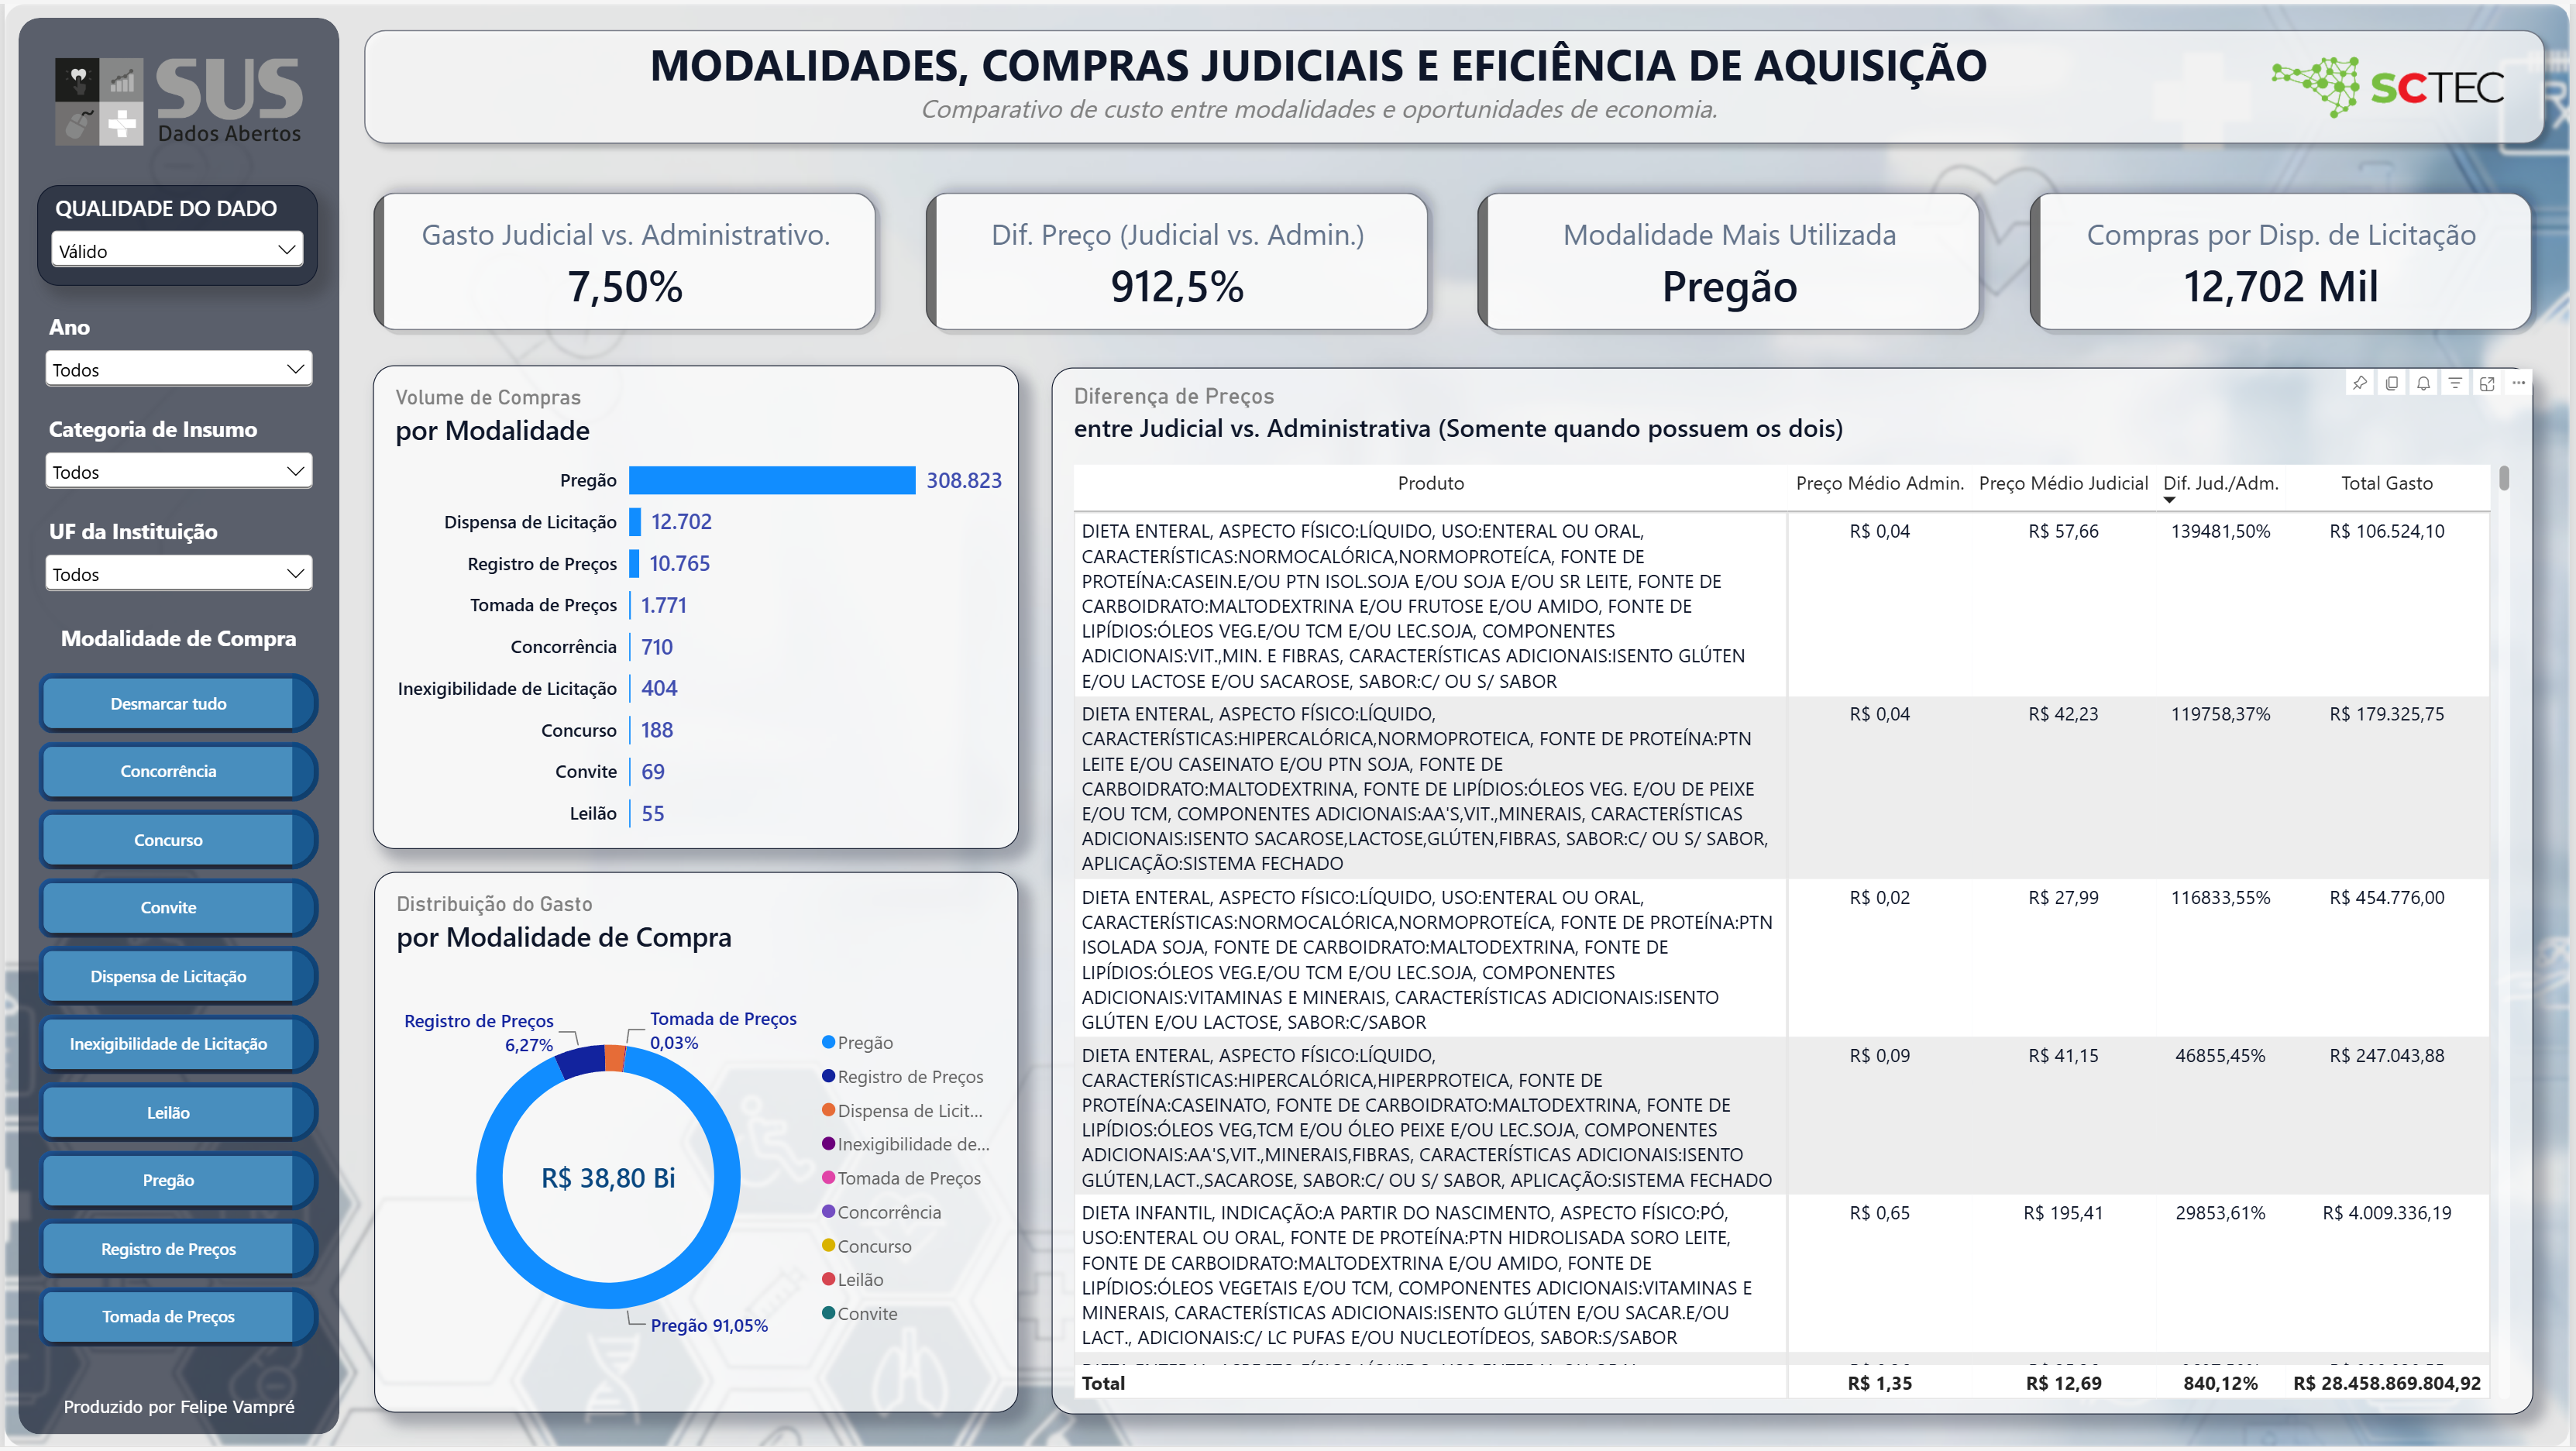

The page's visual inventory and layout, read from the dashboard file:
{"tool":"powerbi","page":{"name":"5. Modalidades, Compras Judiciais e Eficiência de Aquisição","canvas":[1920,1080],"ordinal":5},"visuals":[{"type":"image","box":[0,0,1920,1080],"z":0},{"type":"shape","box":[260,10,1650,103.3],"z":1000},{"type":"textbox","box":[276.7,22.2,1413.3,72.2],"z":2000},{"type":"image","box":[1690,22.2,190,80],"z":3000},{"type":"shape","box":[10,10,240,1060],"z":4000},{"type":"image","box":[25.6,27.8,210,91.1],"z":6000},{"type":"textbox","box":[26,1039,209,31],"z":7000},{"type":"slicer","title":"Ano","fields":{"Values":["dim_calendario.nr_ano","dim_calendario.nm_mes"]},"box":[25,230,210,80],"z":8000},{"type":"slicer","fields":{"Values":["dim_produto.categoria_insumo"]},"box":[25.6,306.7,210,80],"z":9000},{"type":"slicer","fields":{"Values":["dim_instituicao.uf"]},"box":[25,383.3,210,80],"z":10000},{"type":"slicer","title":"Ano","fields":{"Values":["fato_compras.flag_qualidade_dado"]},"box":[23.9,135.2,209.9,75],"z":12000},{"type":"donutChart","title":"Distribuição do Gasto","fields":{"Category":["fato_compras.modalidade_compra"],"Y":["_Medidas.Total_Gasto"]},"box":[276.7,650,482.2,404.4],"z":13000},{"type":"cardVisual","fields":{"Data":["_Medidas.Pct_Gasto_Judicial","_Medidas.Diferenca_Pct_Judicial_Administrativa","_Medidas.Modalidade_Mais_Utilizada","_Medidas.Qtd_Compras_Dispensa"]},"box":[260,125.6,1650,135.6],"z":14000},{"type":"pivotTable","title":"Diferença de Preços","fields":{"Rows":["dim_produto.descricao_catmat"],"Values":["_Medidas.Preco_Medio_Administrativa","_Medidas.Preco_Medio_Judicial","_Medidas.Diferenca_Pct_Judicial_Administrativa","_Medidas.Total_Gasto"]},"box":[783.3,272.2,1108.9,783.3],"z":15000},{"type":"barChart","title":"Volume de Compras","fields":{"Category":["fato_compras.modalidade_compra"],"Y":["_Medidas.Total_Transacoes"]},"box":[275.6,270,483.3,362.2],"z":16000},{"type":"advancedSlicerVisual","title":"Modalidade de Compra","fields":{"Values":["fato_compras.modalidade_compra"]},"box":[25.6,463.3,210,546.7],"z":17000}]}

Visuals, with their boxes in screenshot pixels (x1, y1, x2, y2), scaled from the page's 1920x1080 canvas onto the 2576x1451 screenshot:
image: 0:0:2575:1450
shape: 349:13:2563:152
textbox: 371:30:2268:127
image: 2268:30:2523:137
shape: 13:13:335:1438
image: 34:37:316:160
textbox: 35:1396:315:1438
"Ano" slicer: 33:309:315:417
slicer - dim_produto.categoria_insumo: 34:412:316:520
slicer - dim_instituicao.uf: 33:515:315:622
"Ano" slicer: 32:181:314:283
"Distribuição do Gasto" donutChart: 371:873:1018:1417
cardVisual - _Medidas.Pct_Gasto_Judicial x _Medidas.Diferenca_Pct_Judicial_Administrativa: 349:169:2563:351
"Diferença de Preços" pivotTable: 1051:366:2539:1418
"Volume de Compras" barChart: 370:363:1018:849
"Modalidade de Compra" advancedSlicerVisual: 34:622:316:1357
